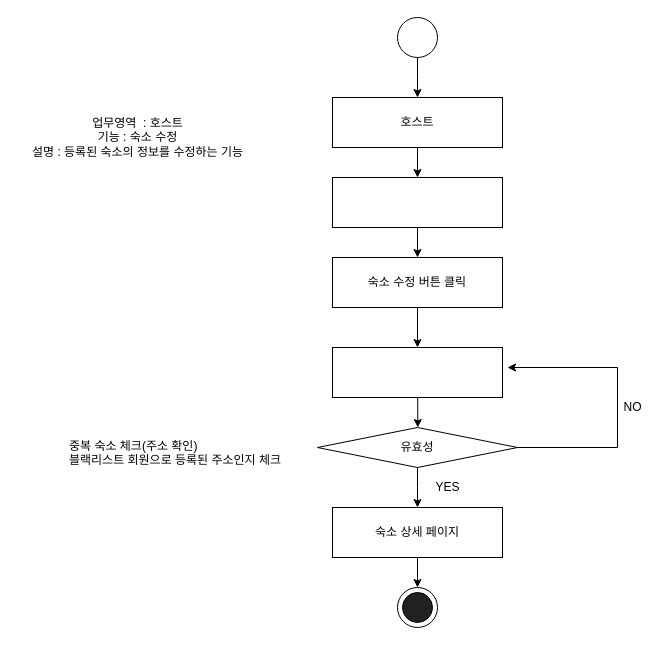
This 664x645 diagram has some shape labels left out. Here are the shapes that lost their labels. From the top down, the centre of each, then its label:
the point at 417,202: 알림판
the point at 417,372: 숙소 수정
